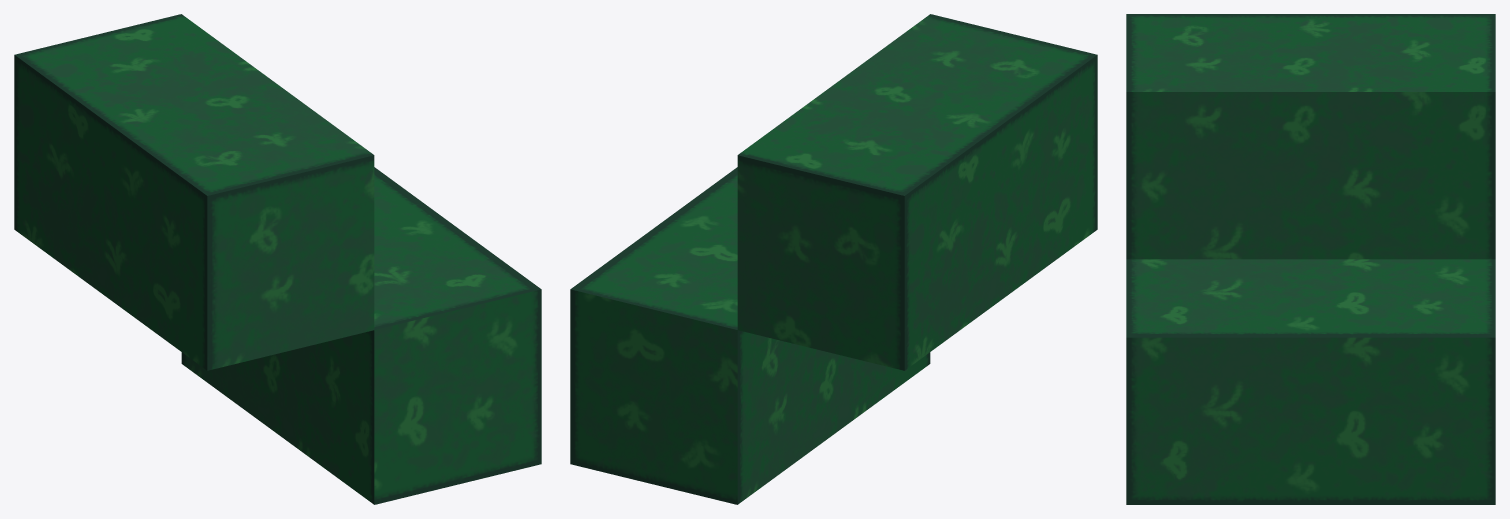
File: 9_grass.obj
The picture shows the model from 3 angles, left to right: view 1: azimuth 30°, elevation 25°; view 2: azimuth 150°, elevation 25°; view 3: azimuth 270°, elevation 25°; orthographic projection. The views are drawn at different scales.
Parts seen in each view (by area): view 1: 9_grass; view 2: 9_grass; view 3: 9_grass.
Boxes of the visible parts, x1,y1,x2,y2 form: 9_grass: (14,14,541,504); 9_grass: (570,14,1097,504); 9_grass: (1126,14,1495,504).
Bounding box in the file's own units: 1 × 1 × 1.
1 material, 1 textured.
